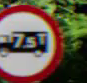Heavy Vehicles: (0, 3, 67, 82)
